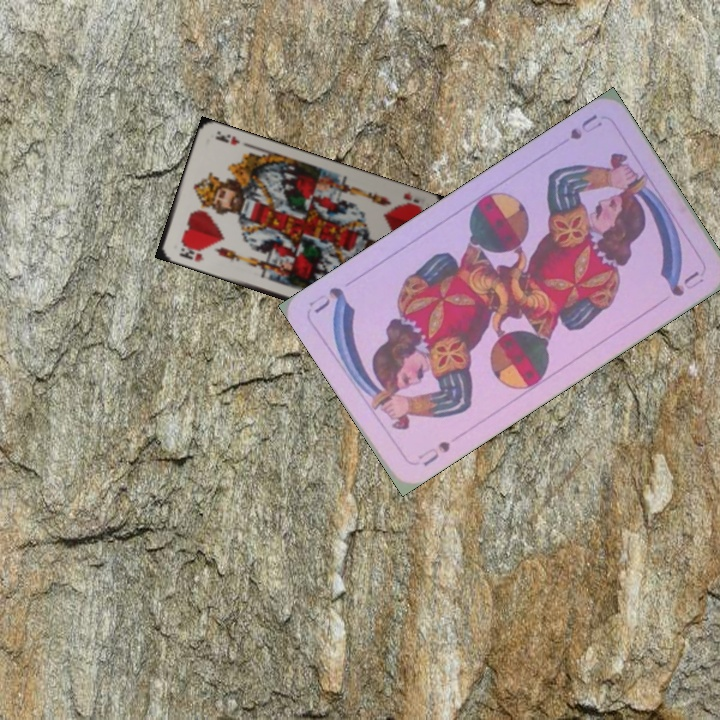HK: (175, 241, 207, 264), (398, 188, 426, 214)
SU: (413, 436, 453, 469), (566, 110, 605, 143)
